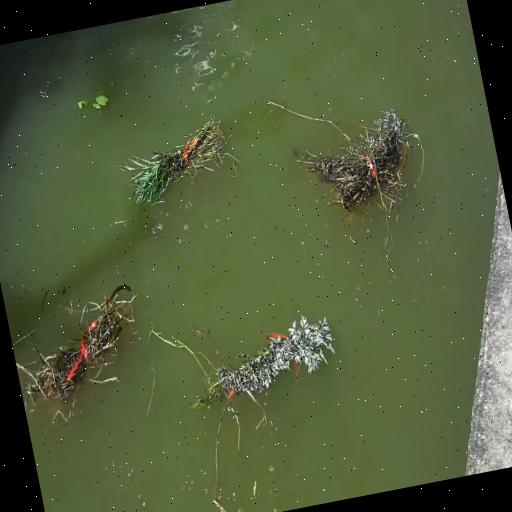twig: (179, 312, 341, 432), (294, 100, 428, 234), (12, 285, 142, 413), (116, 110, 247, 220), (71, 82, 113, 124)
